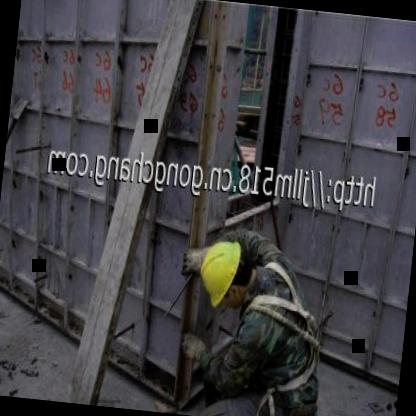helmet: (189, 233, 251, 316)
